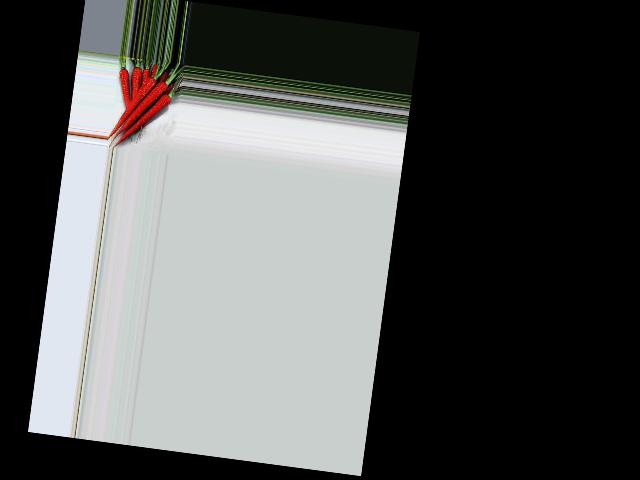carrot: (113, 66, 136, 109)
